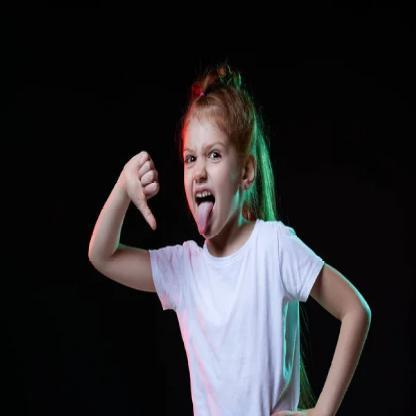thumb_down: (120, 144, 162, 232)
